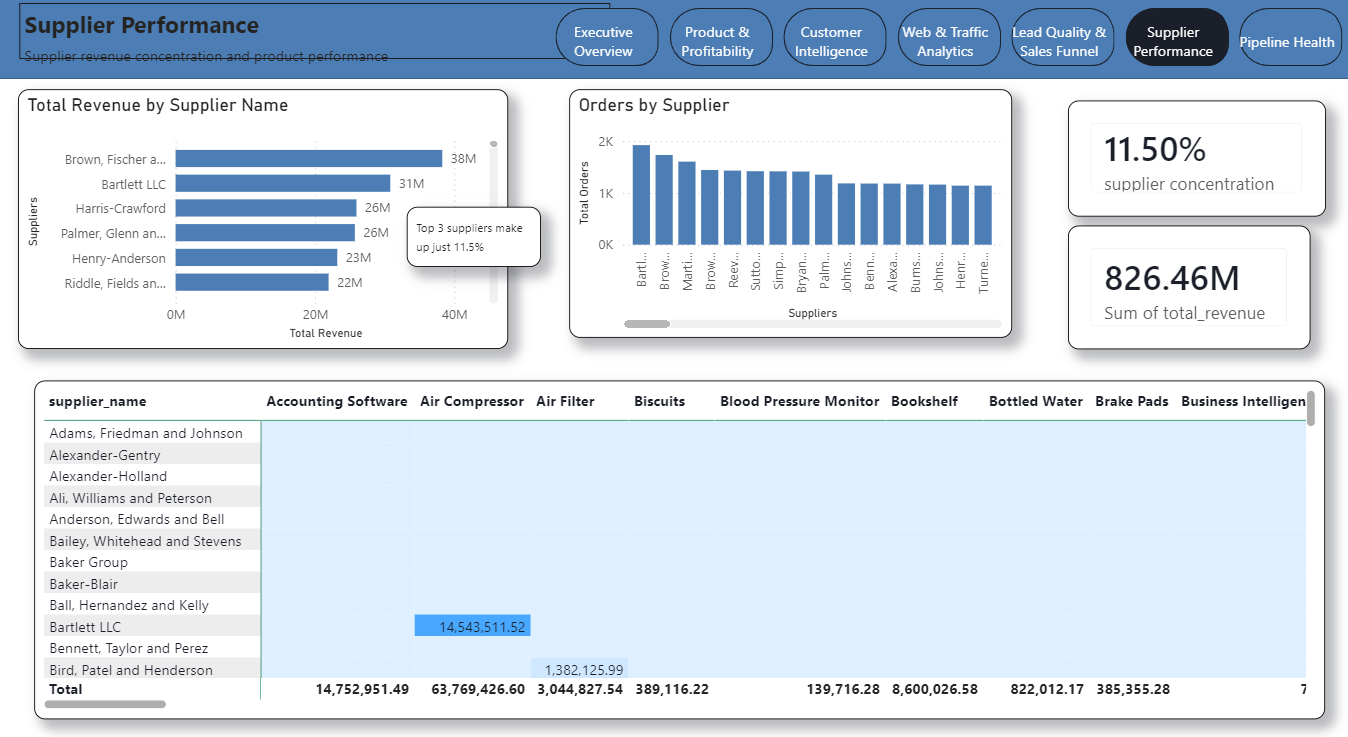

The dashboard page shown, as its layout file describes it:
{"tool":"powerbi","page":{"name":"Supplier Performance","canvas":[1280,720],"ordinal":5},"visuals":[{"type":"shape","box":[0,0,1280,80],"z":0},{"type":"barChart","title":"Total Revenue by Supplier Name","fields":{"Category":["marts vw_supplier_product_performance.supplier_name"],"Y":["Sum(marts vw_supplier_product_performance.total_revenue)"]},"box":[23.3,89.5,455.8,241.9],"z":1000},{"type":"cardVisual","fields":{"Data":["Sum(marts vw_supplier_revenue.revenue_share_pct)"]},"box":[1000,100,239.7,107.7],"z":2000},{"type":"pivotTable","title":"Supplier Product Matrix","fields":{"Columns":["marts vw_supplier_product_performance.product_name"],"Rows":["marts vw_supplier_product_performance.supplier_name"],"Values":["Sum(marts vw_supplier_product_performance.total_revenue)"]},"box":[38.4,360.5,1201.2,315.1],"z":3000},{"type":"cardVisual","fields":{"Data":["Sum(marts vw_supplier_revenue.total_revenue)"]},"box":[1000,216.3,225.6,115.1],"z":4000},{"type":"clusteredColumnChart","title":"Orders by Supplier","fields":{"Category":["marts vw_supplier_product_performance.supplier_name"],"Y":["Sum(marts vw_supplier_product_performance.total_orders)"]},"box":[536,89.5,411.6,231.4],"z":5000},{"type":"textbox","box":[24.3,9.5,550.2,52.7],"z":6000},{"type":"textbox","box":[24.4,44.2,550,36],"z":7000},{"type":"pageNavigator","box":[523.2,13.5,736.8,54.1],"z":8000},{"type":"textbox","box":[384.9,198.8,124.4,55.8],"z":13000}]}

Visuals, with their boxes in screenshot pixels (x1, y1, x2, y2), scaled from the page's 1280x720 canvas onto the 1348x737 screenshot:
shape: bbox=[0, 0, 1347, 82]
"Total Revenue by Supplier Name" barChart: bbox=[25, 92, 505, 339]
cardVisual - Sum(marts vw_supplier_revenue.revenue_share_pct): bbox=[1053, 102, 1306, 213]
"Supplier Product Matrix" pivotTable: bbox=[40, 369, 1305, 692]
cardVisual - Sum(marts vw_supplier_revenue.total_revenue): bbox=[1053, 221, 1291, 339]
"Orders by Supplier" clusteredColumnChart: bbox=[564, 92, 998, 328]
textbox: bbox=[26, 10, 605, 64]
textbox: bbox=[26, 45, 605, 82]
pageNavigator: bbox=[551, 14, 1327, 69]
textbox: bbox=[405, 203, 536, 261]
